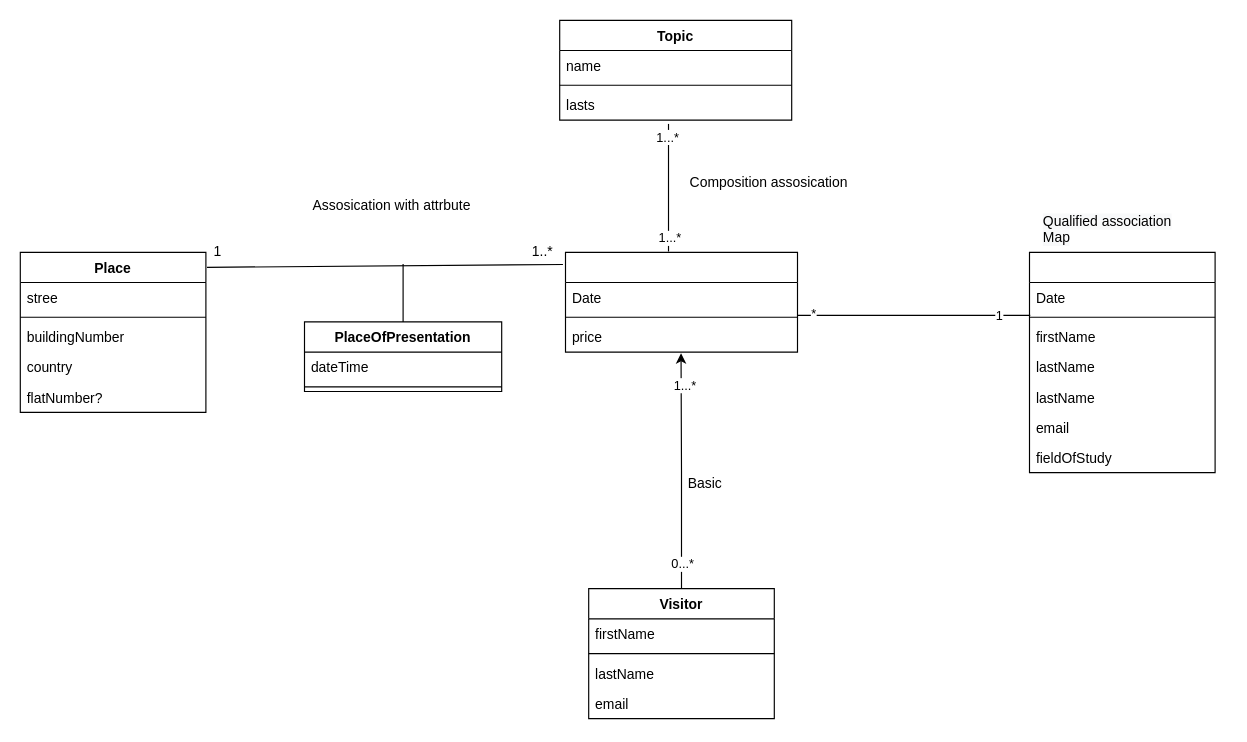
Image size: 1247x742. Some labels were removed from this diagram. Each missing label, with the box of its shape:
Presentation: (564, 251, 798, 352)
Speaker: (1028, 251, 1215, 473)
